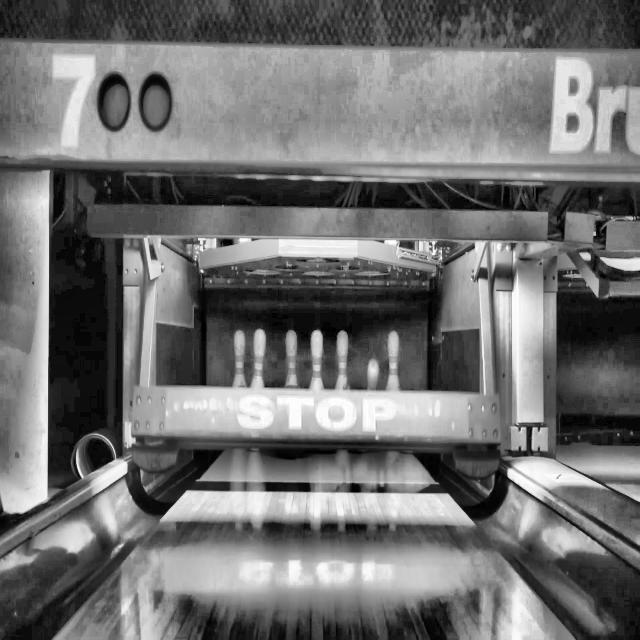bowling-pins: (250, 328, 266, 389), (309, 329, 324, 390), (386, 331, 400, 391), (335, 330, 349, 389), (285, 330, 299, 388), (232, 330, 246, 387)
sweep board: (132, 386, 500, 444)
